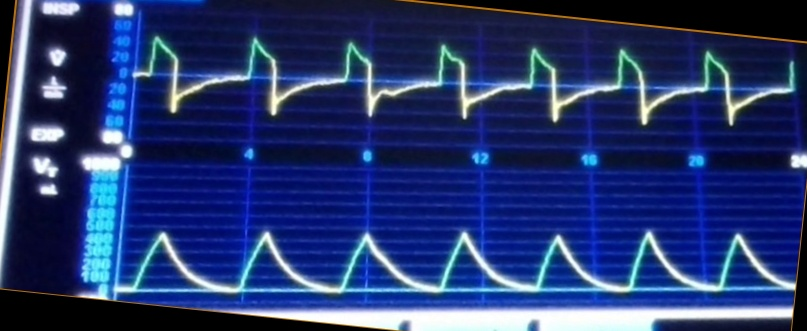Premature_cycling Flow: (142, 33, 795, 148)
Premature_cycling Volume: (123, 224, 792, 298)
